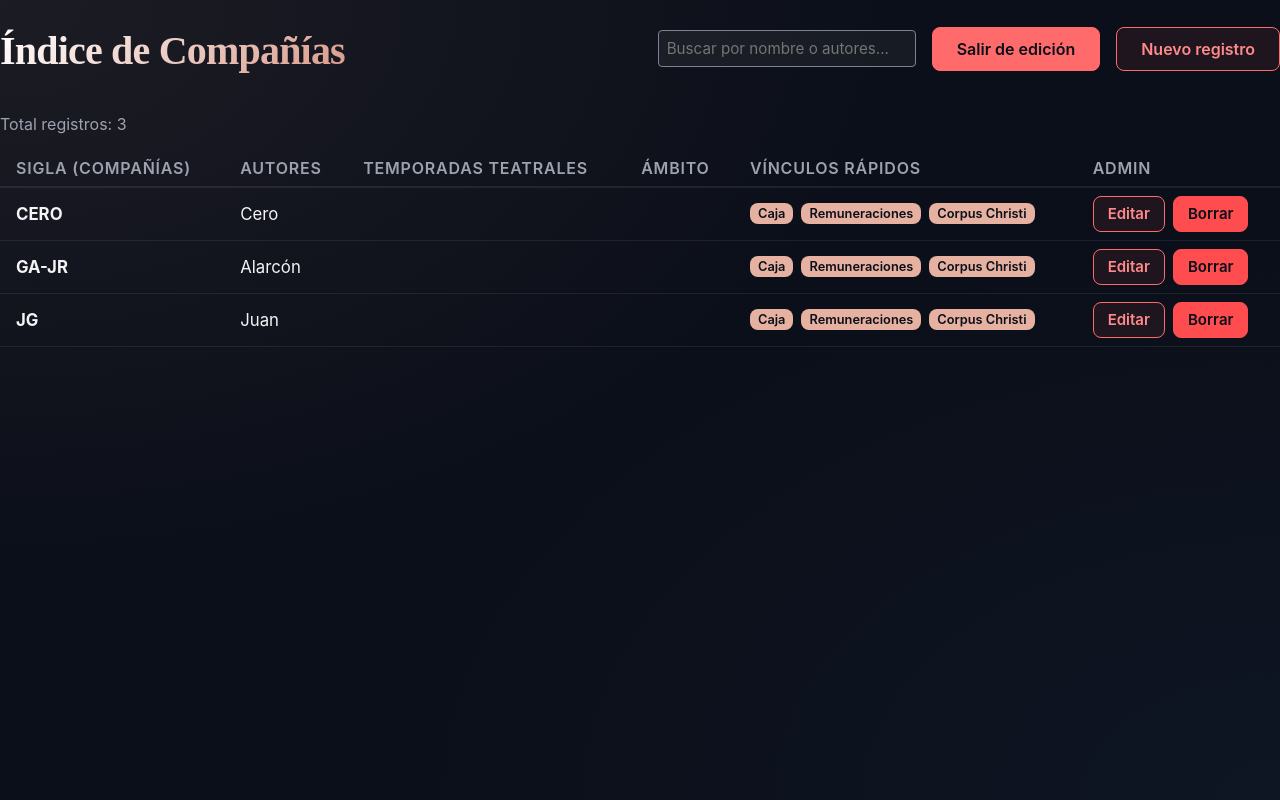
Scenario: borrado de compañías: integridad referencial › referenciada solo desde manejo_de_caja NO se puede borrar
This screenshot has width=1280, height=800.
Click the button "Borrar" in the row of "JG" at (1211, 320), box [1173,302,1248,338]
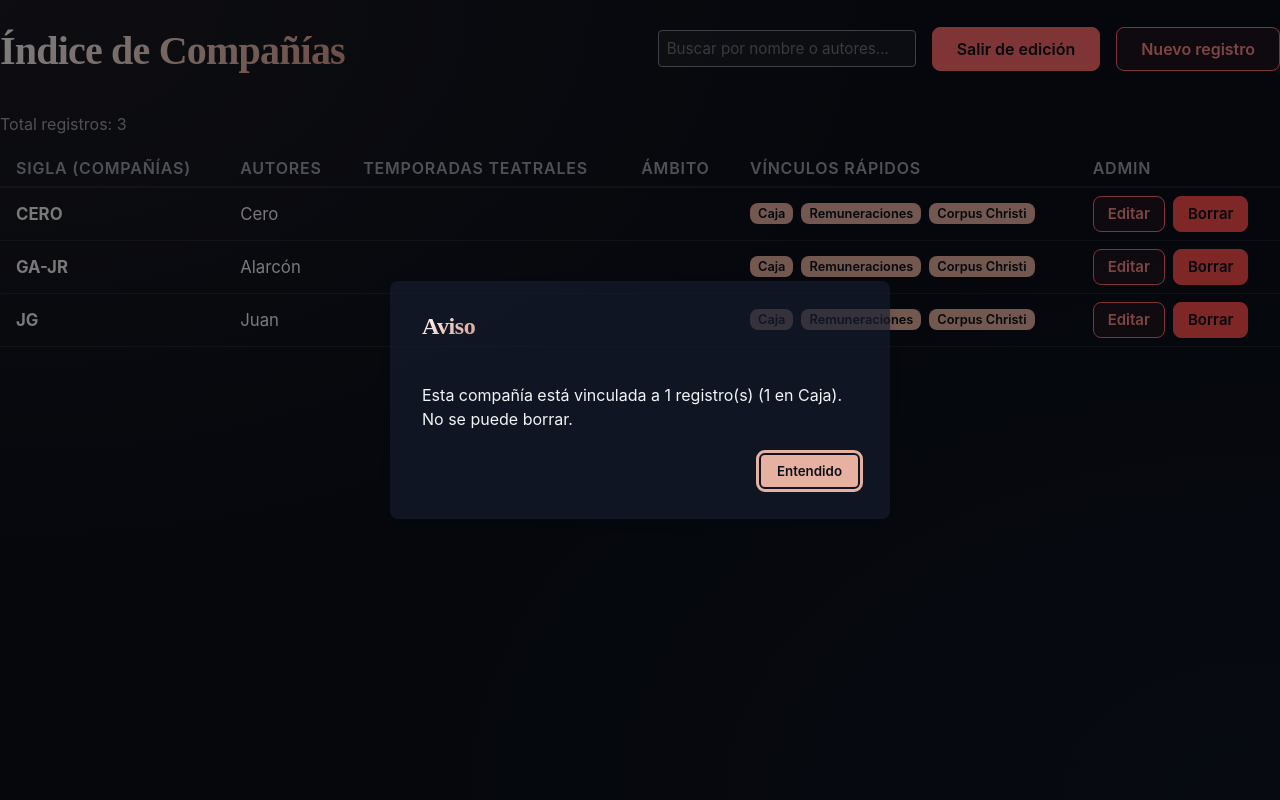
expect the text "1 en Caja" is shown: met, box [422,386,842,430]
